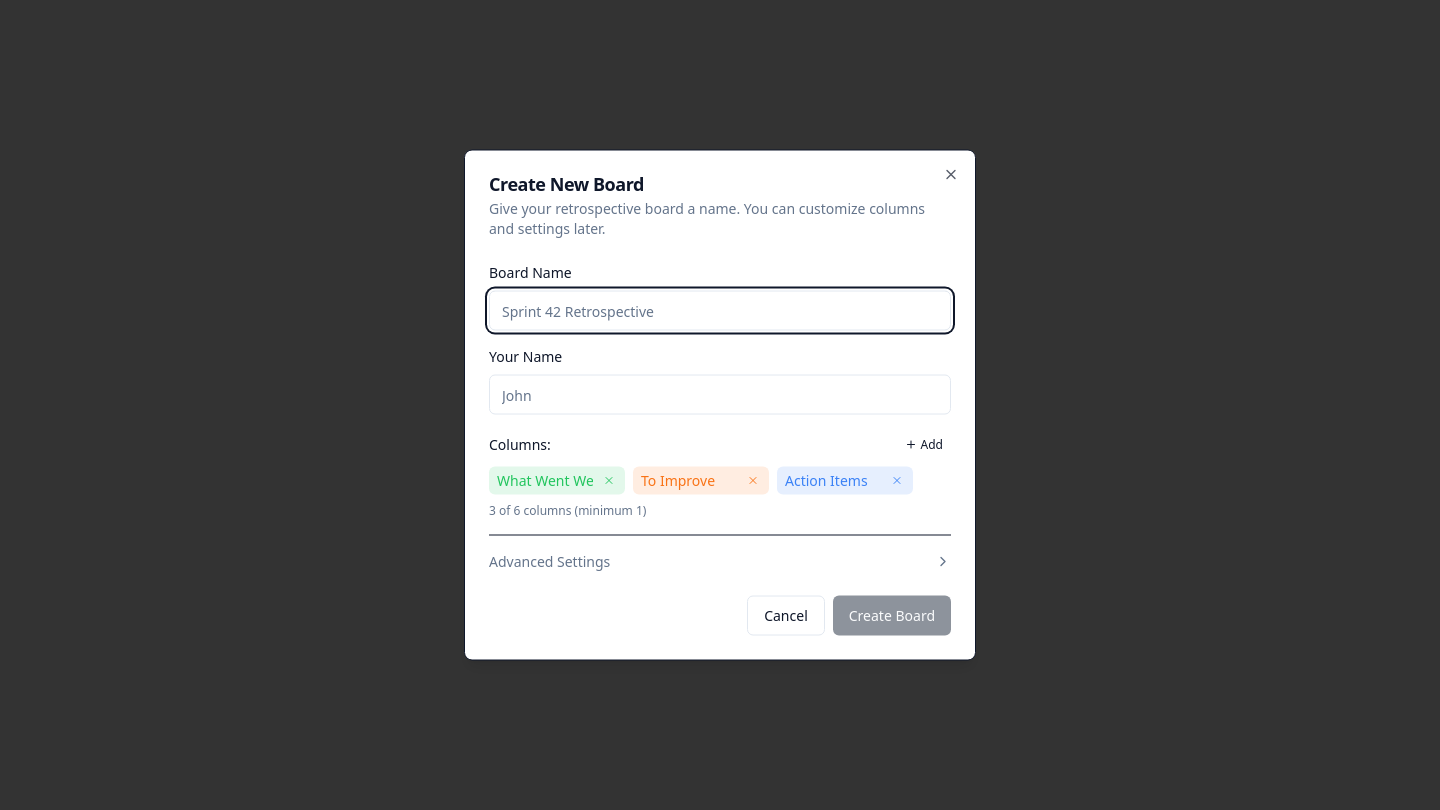
Test case: CreateBoardDialog › Form Validation › should show validation error for alias with invalid characters
Type "Valid Board" into the field with test id "board-name-input" at [720, 310], box [489, 290, 951, 330]
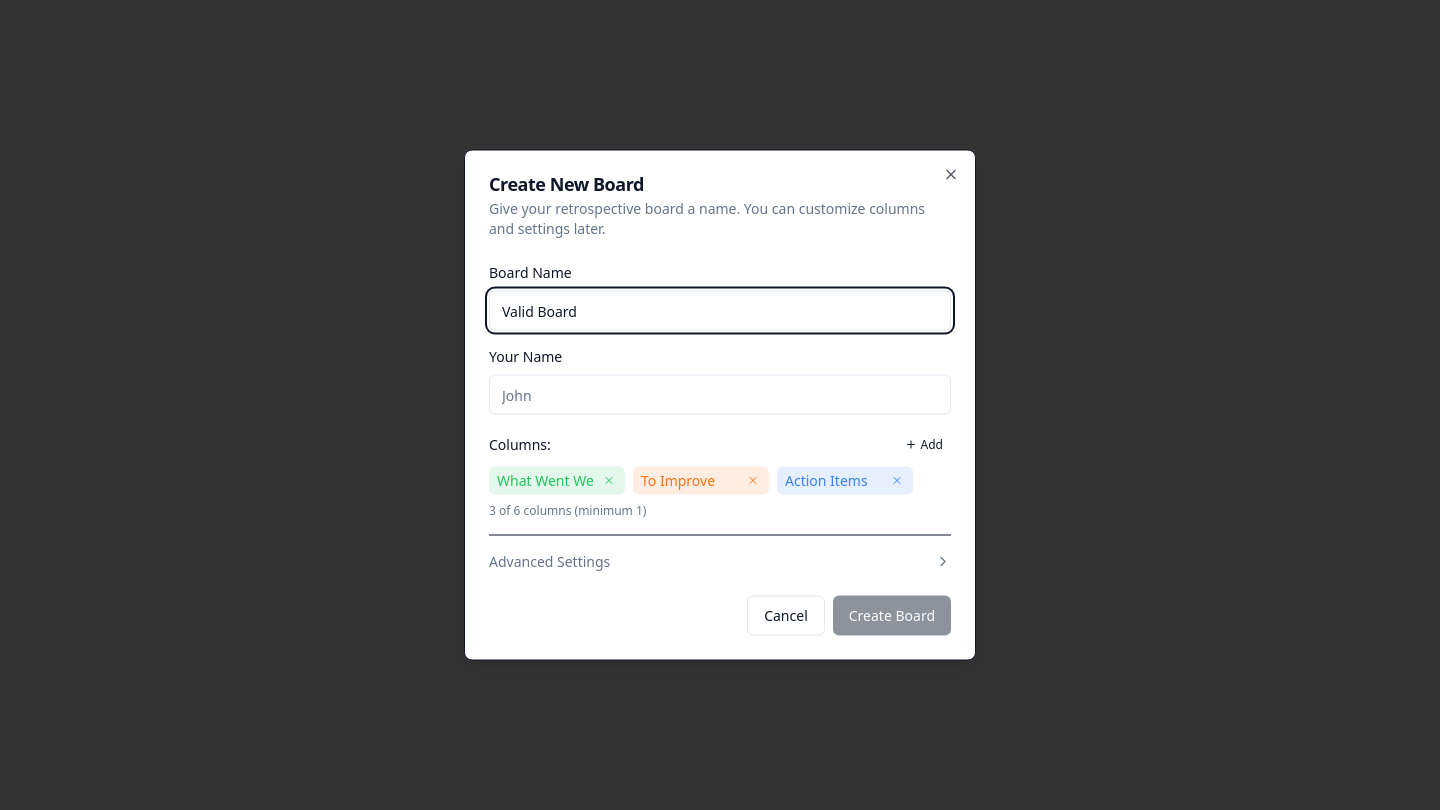
Type "User@#$%" into the field with test id "creator-alias-input" at [720, 394], box [489, 374, 951, 414]
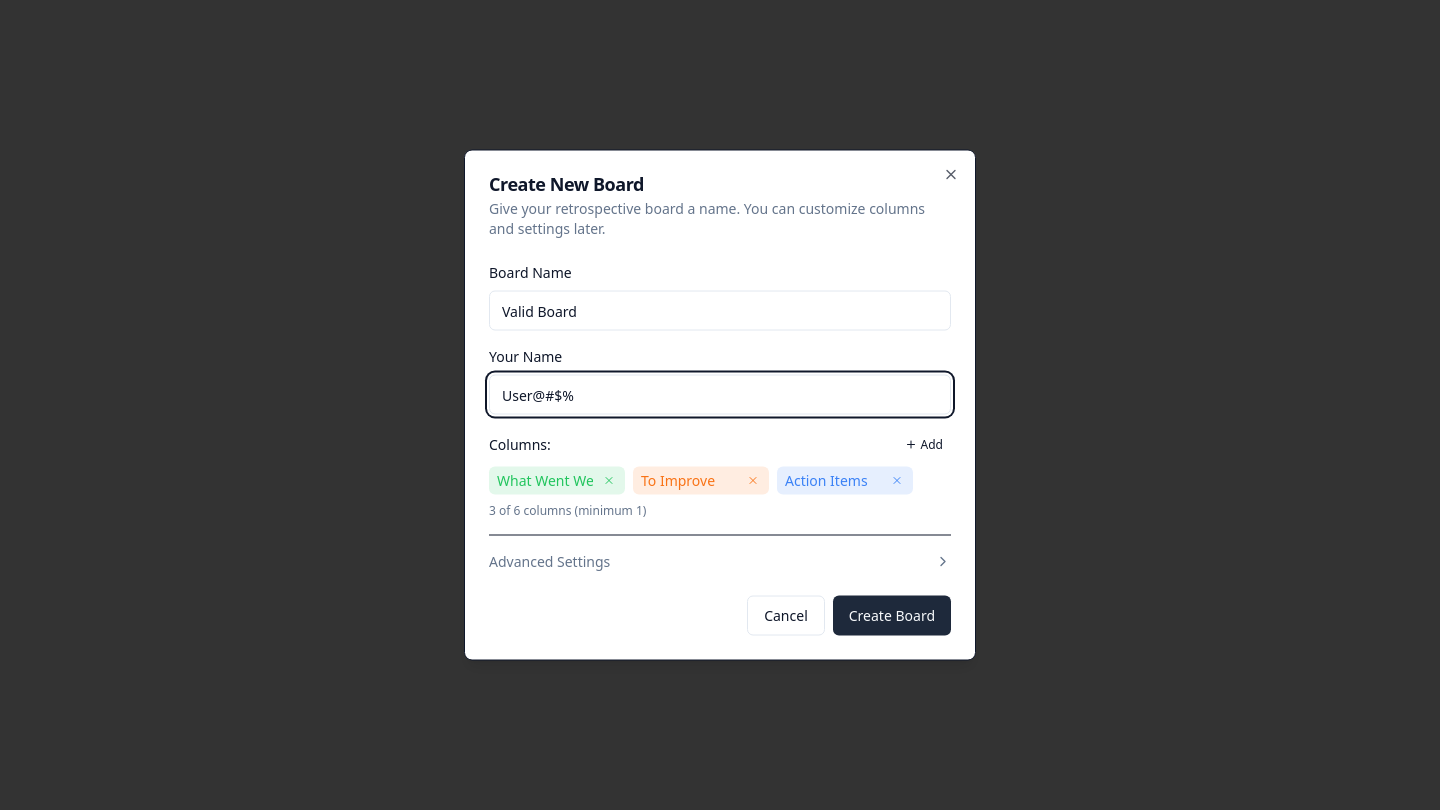
Click the button with test id "submit-create-board" at [892, 616], box [833, 596, 951, 636]
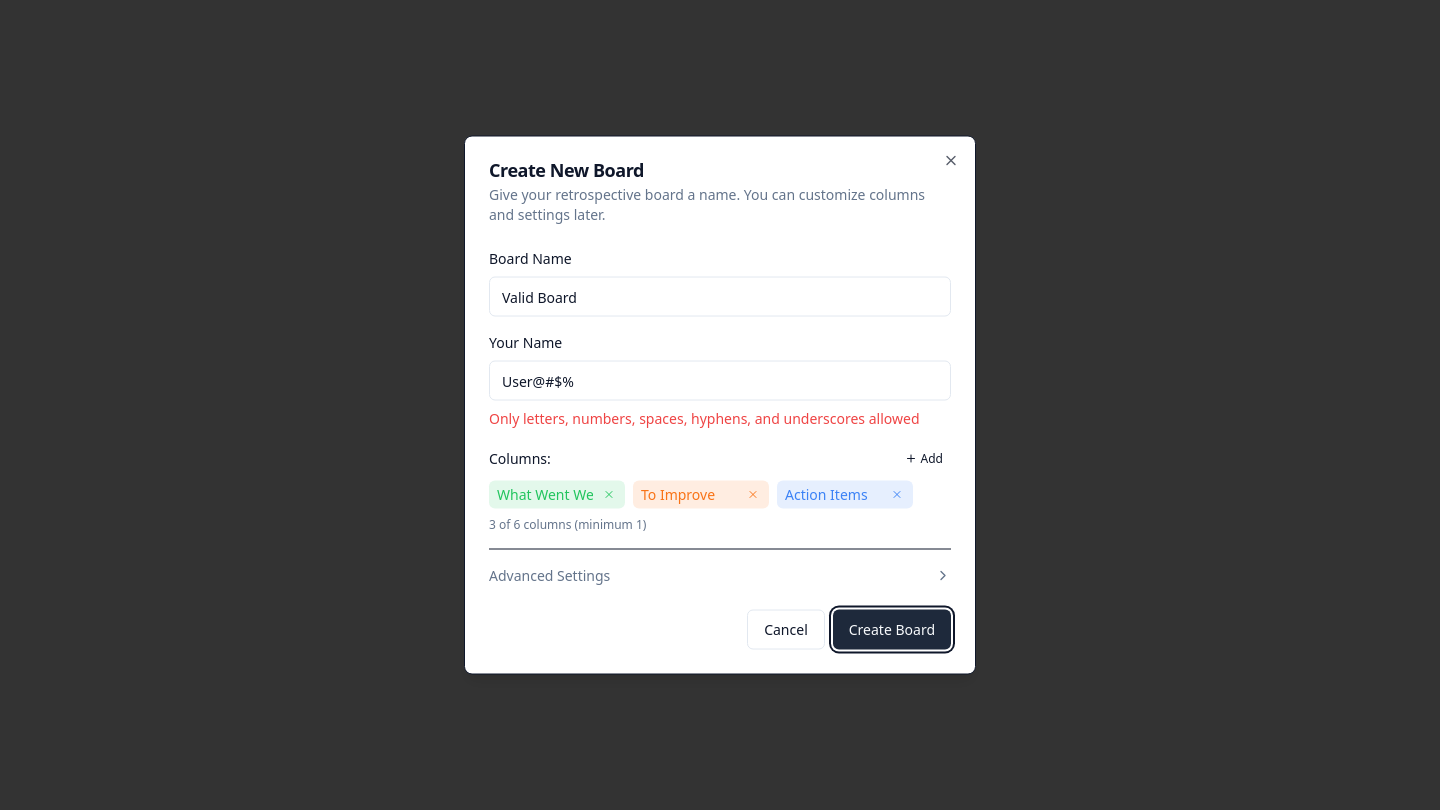
expect the message "Only letters, numbers, spaces, hyphens, and underscores allowed" is shown: met, box [489, 408, 951, 428]
